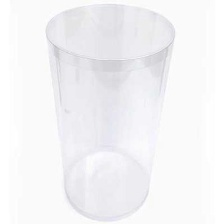plastic_box: (39, 0, 181, 223)
